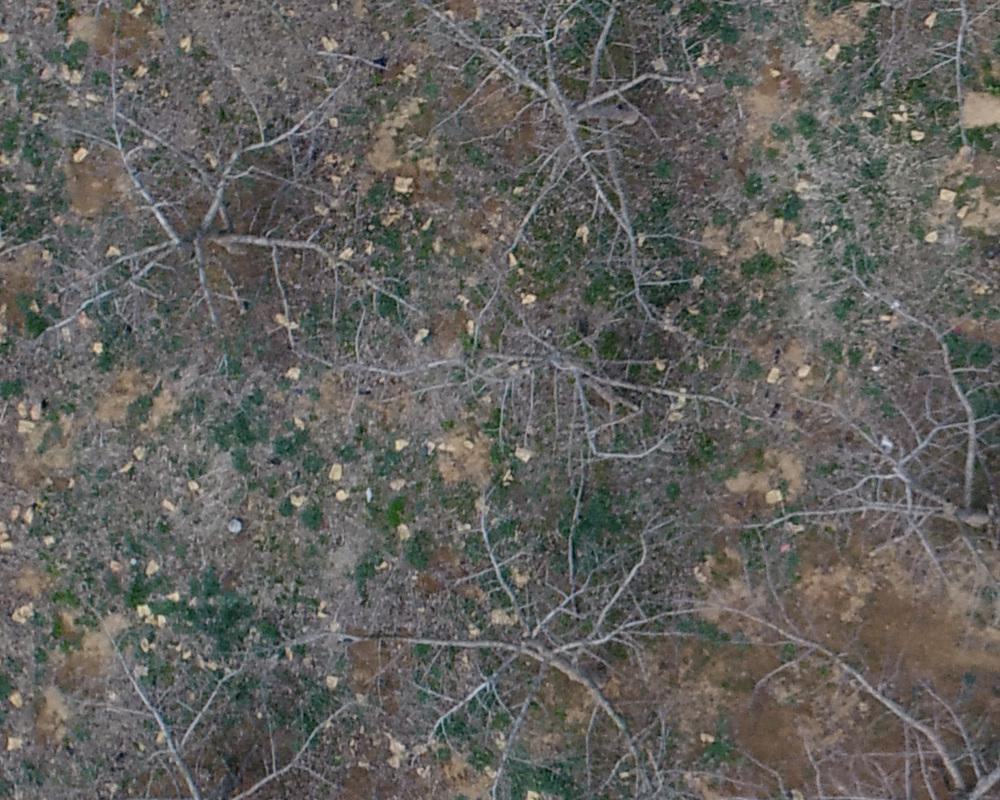apple: (55, 46, 394, 365), (416, 10, 712, 333), (352, 486, 690, 758), (755, 304, 990, 600), (10, 636, 436, 790), (425, 282, 730, 492)
